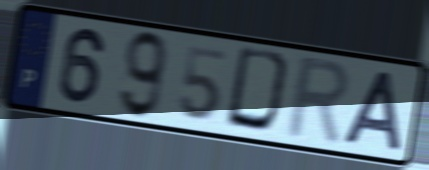5: (175, 42, 230, 123)
6: (57, 24, 109, 108)
9: (117, 28, 170, 123)
A: (340, 68, 405, 154)
D: (223, 43, 298, 139)
R: (282, 54, 354, 150)
